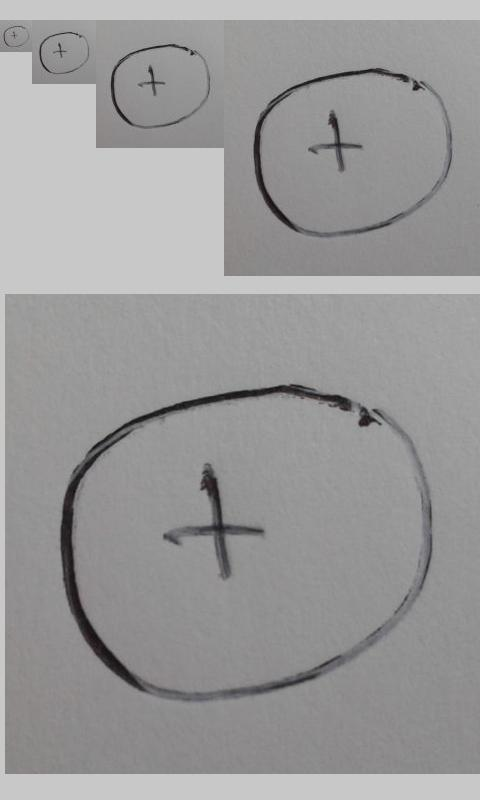button: (61, 383, 433, 705), (252, 67, 454, 239), (110, 44, 211, 129), (39, 32, 90, 75), (3, 25, 30, 48)
